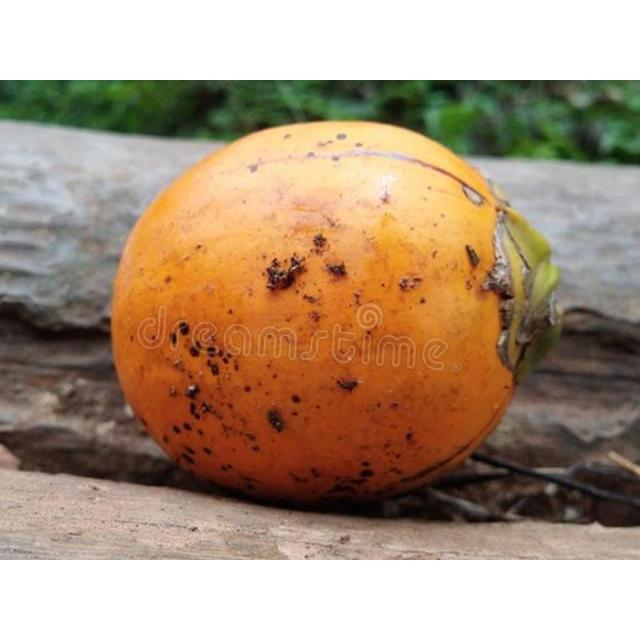good: (111, 122, 562, 502)
